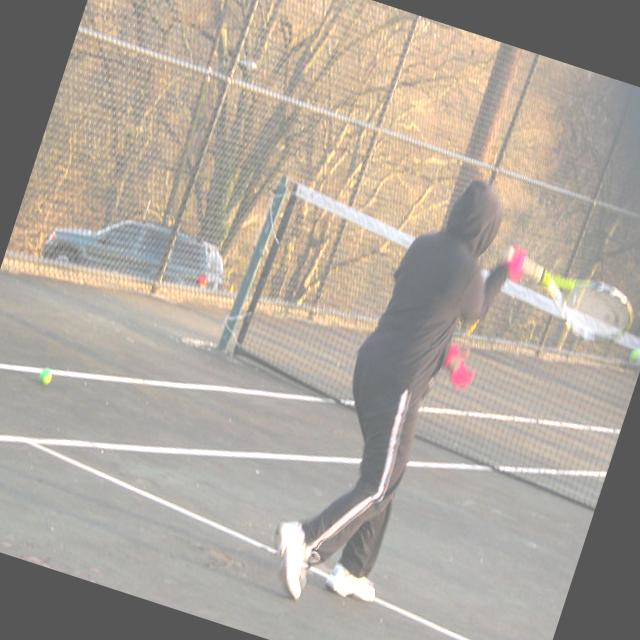Vehicle: (38, 196, 230, 316)
